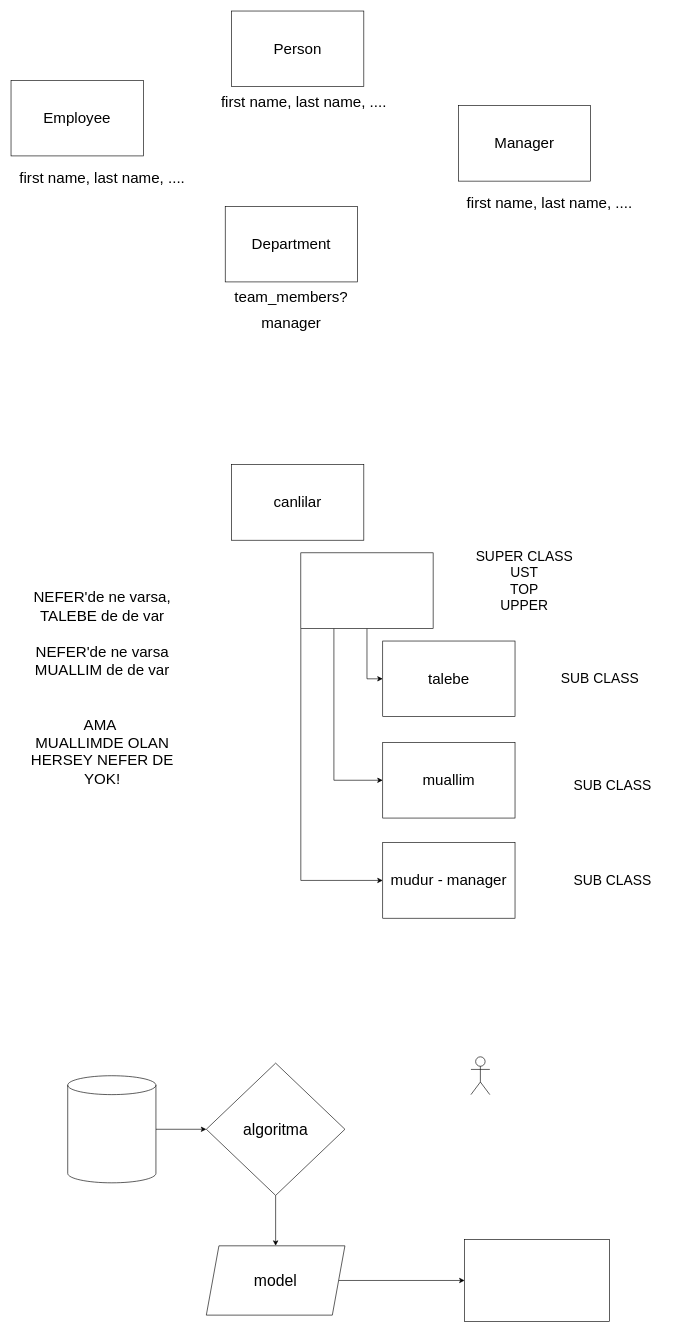
Image size: 696x1332. Some labels were removed from this diagram. Here are the shapes that lost their labels. From the top down, the centre of each, then its label:
At point 366,590: "nefer".
At point 480,1075: "GAME - TOMB RAIDER".
At point 111,1129: "DATA".
At point 537,1280: "save to a file pickle".
